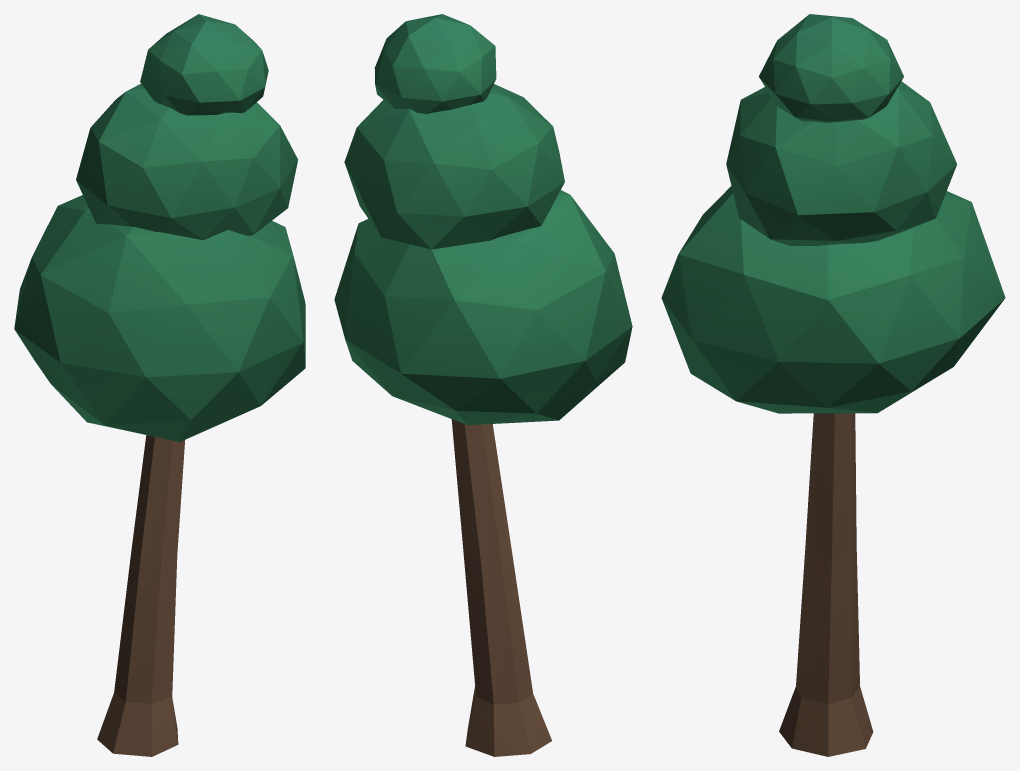
Rendered from Ghibli_Tree_B.glb.
3 views of the same model, side by side, from view 1: azimuth 30°, elevation 25°; view 2: azimuth 150°, elevation 25°; view 3: azimuth 270°, elevation 25° (orthographic). The views are drawn at different scales.
Parts seen in each view (by area): view 1: GhibliTreeB; view 2: GhibliTreeB; view 3: GhibliTreeB.
Part boxes in pixels (bbox=[...]): GhibliTreeB: bbox=[14, 14, 305, 756]; GhibliTreeB: bbox=[334, 14, 632, 756]; GhibliTreeB: bbox=[661, 14, 1005, 756].
Size of the model in its own units: 1.72 by 4.61 by 1.9.
